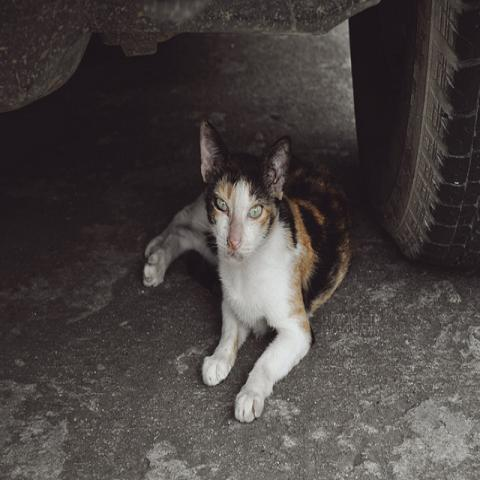car: (0, 0, 480, 275)
